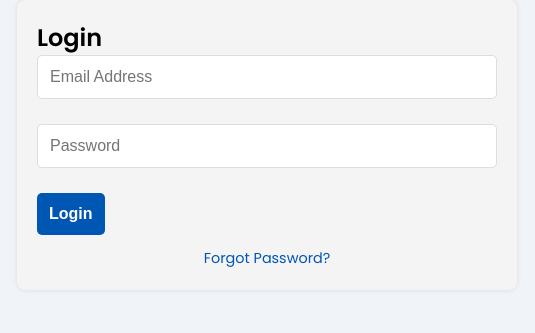
Test: LoginForm › displays error message on network error
This screenshot has width=535, height=333.
Type "test@example.com" into the field with placeholder "Email Address" at (267, 77), box [37, 55, 497, 99]
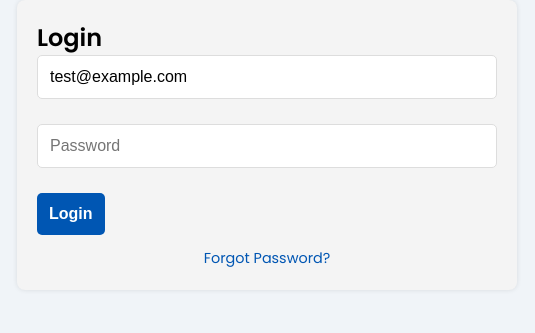
Type "password123" into the password field with placeholder "Password" at (267, 146), box [37, 124, 497, 168]
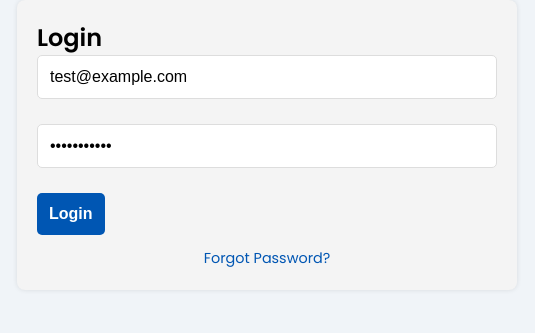
Click the button "Login" at (71, 214), box [37, 193, 104, 235]
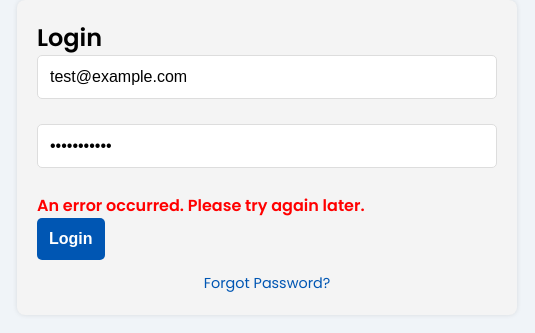
expect the text "An error occurred. Please try again later." is shown: met, box [37, 194, 365, 217]
